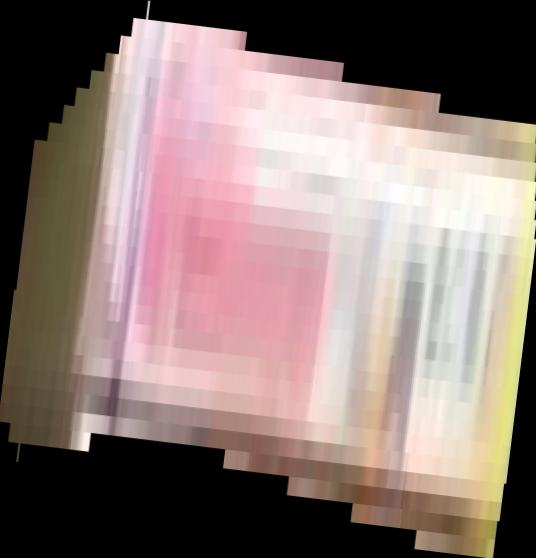flat: (1, 1, 536, 558)
